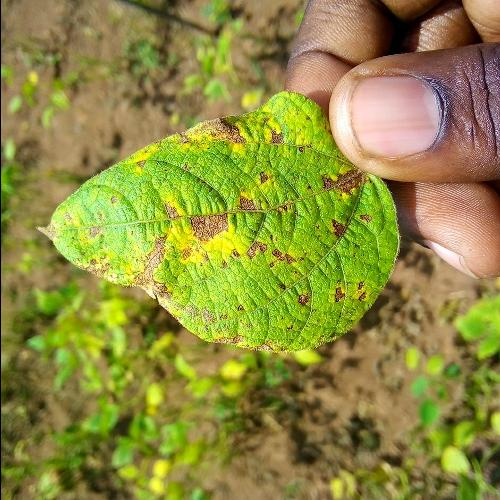hawar: (66, 100, 366, 424)
